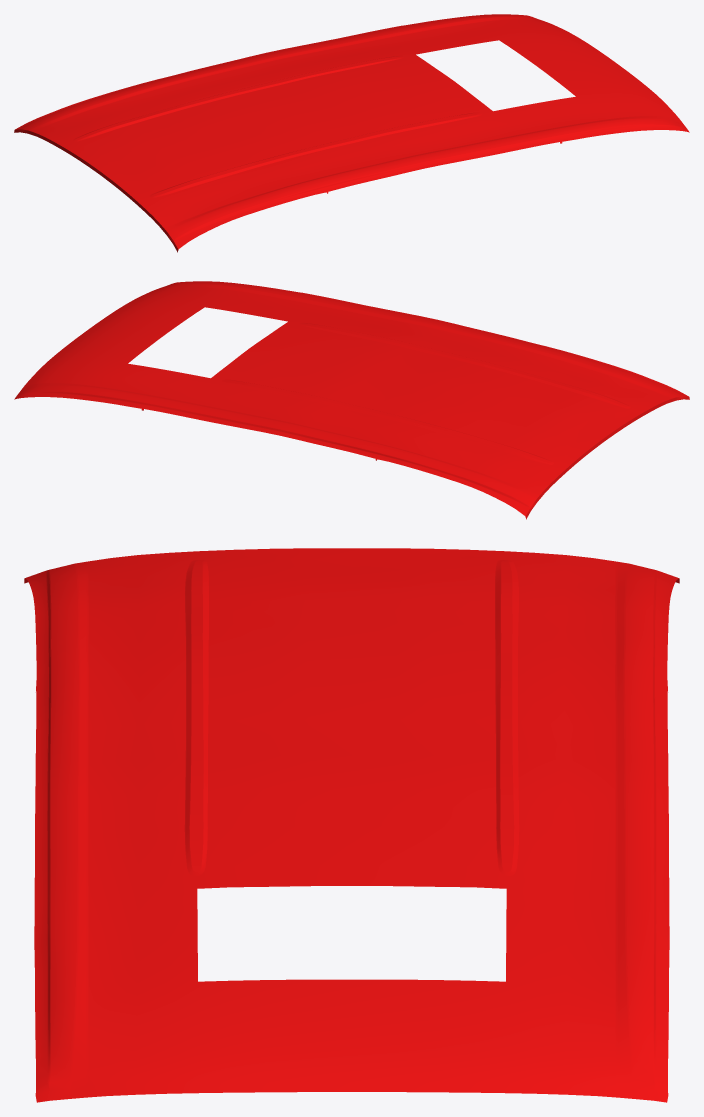
The picture shows the model from 3 angles, top to bottom: view 1: azimuth 30°, elevation 25°; view 2: azimuth 150°, elevation 25°; view 3: azimuth 270°, elevation 25°; orthographic projection. The views are drawn at different scales.
Visible parts, largest first — view 1: N664_9A_341B_C_DaS_N664_9A_341B_C, N664_9A_341B_C_DaS_N664_9A_341B_C_E; view 2: N664_9A_341B_C_DaS_N664_9A_341B_C, N664_9A_341B_C_DaS_N664_9A_341B_C_E; view 3: N664_9A_341B_C_DaS_N664_9A_341B_C, N664_9A_341B_C_DaS_N664_9A_341B_C_E.
Part boxes in pixels (<box>): N664_9A_341B_C_DaS_N664_9A_341B_C: <box>15,14,689,249</box>; N664_9A_341B_C_DaS_N664_9A_341B_C_E: <box>14,16,678,252</box>; N664_9A_341B_C_DaS_N664_9A_341B_C: <box>14,281,688,516</box>; N664_9A_341B_C_DaS_N664_9A_341B_C_E: <box>25,283,689,519</box>; N664_9A_341B_C_DaS_N664_9A_341B_C: <box>25,548,678,1102</box>; N664_9A_341B_C_DaS_N664_9A_341B_C_E: <box>24,560,679,1097</box>.
Bounding box in the file's own units: 221 × 15.01 × 120.
